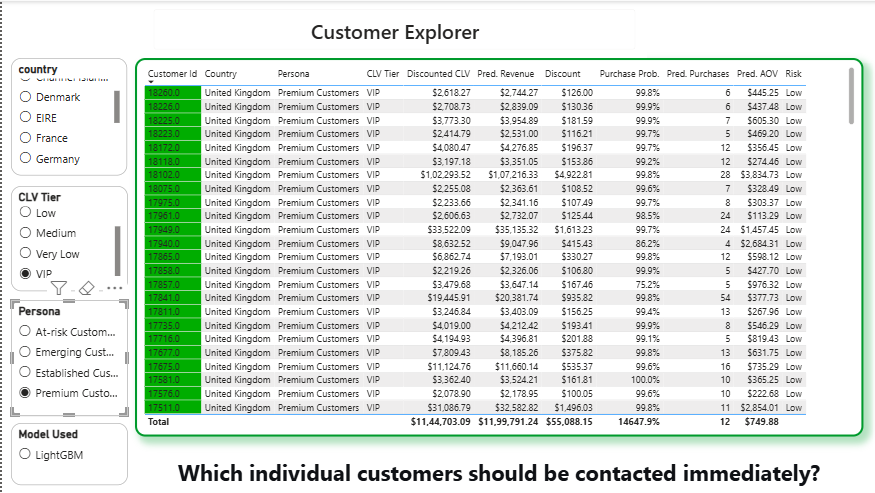

What the dashboard file says about the page in this screenshot:
{"tool":"powerbi","page":{"name":"Customer Explorer","canvas":[1280,720],"ordinal":3},"visuals":[{"type":"tableEx","fields":{"Values":["powerbi fact_customers.customer_id","powerbi fact_customers.country","powerbi fact_customers.persona_name","powerbi fact_customers.true_clv_tier","Sum(powerbi fact_customers.discounted_clv)","powerbi fact_customers.Total Predicted Revenue","powerbi fact_customers.Discount Applied","Sum(powerbi fact_customers.p_active)","powerbi fact_customers.Average Predicted Purchases","powerbi fact_customers.Average Predicted Order Value","powerbi fact_customers.risk_level"]},"box":[195.1,83.6,1065.6,554.1],"z":0},{"type":"listSlicer","fields":{"Values":["powerbi fact_customers.country"]},"box":[13.1,83.6,170.5,172.1],"z":1000},{"type":"listSlicer","fields":{"Values":["powerbi fact_customers.true_clv_tier"]},"box":[13.2,270.7,171.2,153.7],"z":2000},{"type":"listSlicer","fields":{"Values":["powerbi fact_customers.persona_name"]},"box":[13.2,437.6,171.2,169.8],"z":3000},{"type":"listSlicer","fields":{"Values":["powerbi fact_customers.model_used"]},"box":[13.2,617.6,171.2,90.7],"z":4000},{"type":"cardVisual","fields":{"Data":["Measures (2).explorer Title"]},"box":[204.9,0,739,83],"z":5000},{"type":"textbox","box":[194.6,662.9,1065.4,57.1],"z":6000}]}

Visuals, with their boxes in screenshot pixels (x1, y1, x2, y2), scaled from the page's 1280x720 canvas onto the 875x493 screenshot:
tableEx - powerbi fact_customers.customer_id x powerbi fact_customers.country: region(133, 57, 862, 437)
listSlicer - powerbi fact_customers.country: region(9, 57, 126, 175)
listSlicer - powerbi fact_customers.true_clv_tier: region(9, 185, 126, 291)
listSlicer - powerbi fact_customers.persona_name: region(9, 300, 126, 416)
listSlicer - powerbi fact_customers.model_used: region(9, 423, 126, 485)
cardVisual - Measures (2).explorer Title: region(140, 0, 645, 57)
textbox: region(133, 454, 861, 492)
